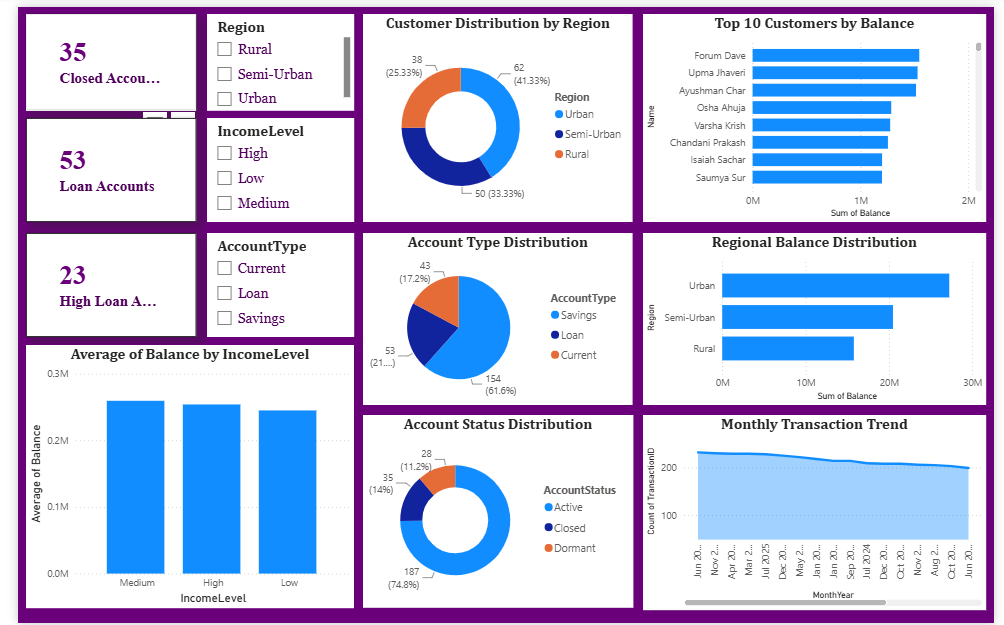

The dashboard page shown, as its layout file describes it:
{"tool":"powerbi","page":{"name":"Page 1","canvas":[1220,770],"ordinal":0},"visuals":[{"type":"cardVisual","fields":{"Data":["Accounts.Closed Accounts"]},"box":[10,8.8,212.5,121.2],"z":0},{"type":"cardVisual","fields":{"Data":["Accounts.Loan Accounts"]},"box":[10,138.8,212.5,130],"z":1000},{"type":"cardVisual","fields":{"Data":["Accounts.High Loan Accounts"]},"box":[10,282.5,212.5,130],"z":2000},{"type":"donutChart","title":"Customer Distribution by Region","fields":{"Category":["Customers.Region"],"Y":["CountNonNull(Customers.CustomerID)"]},"box":[431.3,8.7,337.3,260],"z":3000},{"type":"pieChart","title":"Account Type Distribution","fields":{"Category":["Accounts.AccountType"],"Y":["CountNonNull(Accounts.AccountID)"]},"box":[431.3,282.7,337.3,214.7],"z":4000},{"type":"donutChart","title":"Account Status Distribution","fields":{"Category":["Accounts.AccountStatus"],"Y":["CountNonNull(Accounts.AccountID)"]},"box":[431.2,510,337.5,241.2],"z":5000},{"type":"clusteredBarChart","title":"Top 10 Customers by Balance","fields":{"Category":["Customers.Name"],"Y":["Sum(Accounts.Balance)"]},"box":[781.3,8.7,428.7,260],"z":6000},{"type":"clusteredBarChart","title":"Regional Balance Distribution","fields":{"Category":["Customers.Region"],"Y":["Sum(Accounts.Balance)"]},"box":[781.3,282.7,428.7,214.7],"z":7000},{"type":"stackedAreaChart","title":"Monthly Transaction Trend","fields":{"Category":["Transactions.MonthYear"],"Y":["CountNonNull(Transactions.TransactionID)"]},"box":[781.2,510,428.8,243.8],"z":8000},{"type":"clusteredColumnChart","fields":{"Category":["Customers.IncomeLevel"],"Y":["Avg(Accounts.Balance)"]},"box":[10,422.5,410,328.8],"z":9000},{"type":"slicer","fields":{"Values":["Customers.Region"]},"box":[236.2,8.8,183.8,121.2],"z":10000},{"type":"slicer","fields":{"Values":["Customers.IncomeLevel"]},"box":[236.2,138.8,183.8,130],"z":11000},{"type":"slicer","fields":{"Values":["Accounts.AccountType"]},"box":[236.2,282.5,183.8,130],"z":12000}]}

Visuals, with their boxes in screenshot pixels (x1, y1, x2, y2), scaled from the page's 1220x770 canvas onto the 1004x625 screenshot:
cardVisual - Accounts.Closed Accounts: BBox(8, 7, 183, 106)
cardVisual - Accounts.Loan Accounts: BBox(8, 113, 183, 218)
cardVisual - Accounts.High Loan Accounts: BBox(8, 229, 183, 335)
"Customer Distribution by Region" donutChart: BBox(355, 7, 633, 218)
"Account Type Distribution" pieChart: BBox(355, 229, 633, 404)
"Account Status Distribution" donutChart: BBox(355, 414, 633, 610)
"Top 10 Customers by Balance" clusteredBarChart: BBox(643, 7, 996, 218)
"Regional Balance Distribution" clusteredBarChart: BBox(643, 229, 996, 404)
"Monthly Transaction Trend" stackedAreaChart: BBox(643, 414, 996, 612)
clusteredColumnChart - Customers.IncomeLevel x Avg(Accounts.Balance): BBox(8, 343, 346, 610)
slicer - Customers.Region: BBox(194, 7, 346, 106)
slicer - Customers.IncomeLevel: BBox(194, 113, 346, 218)
slicer - Accounts.AccountType: BBox(194, 229, 346, 335)
